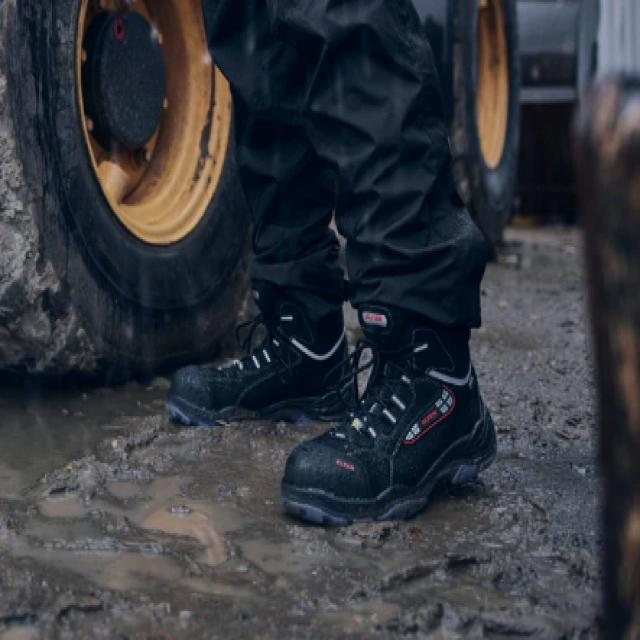shoes: (162, 265, 503, 536)
